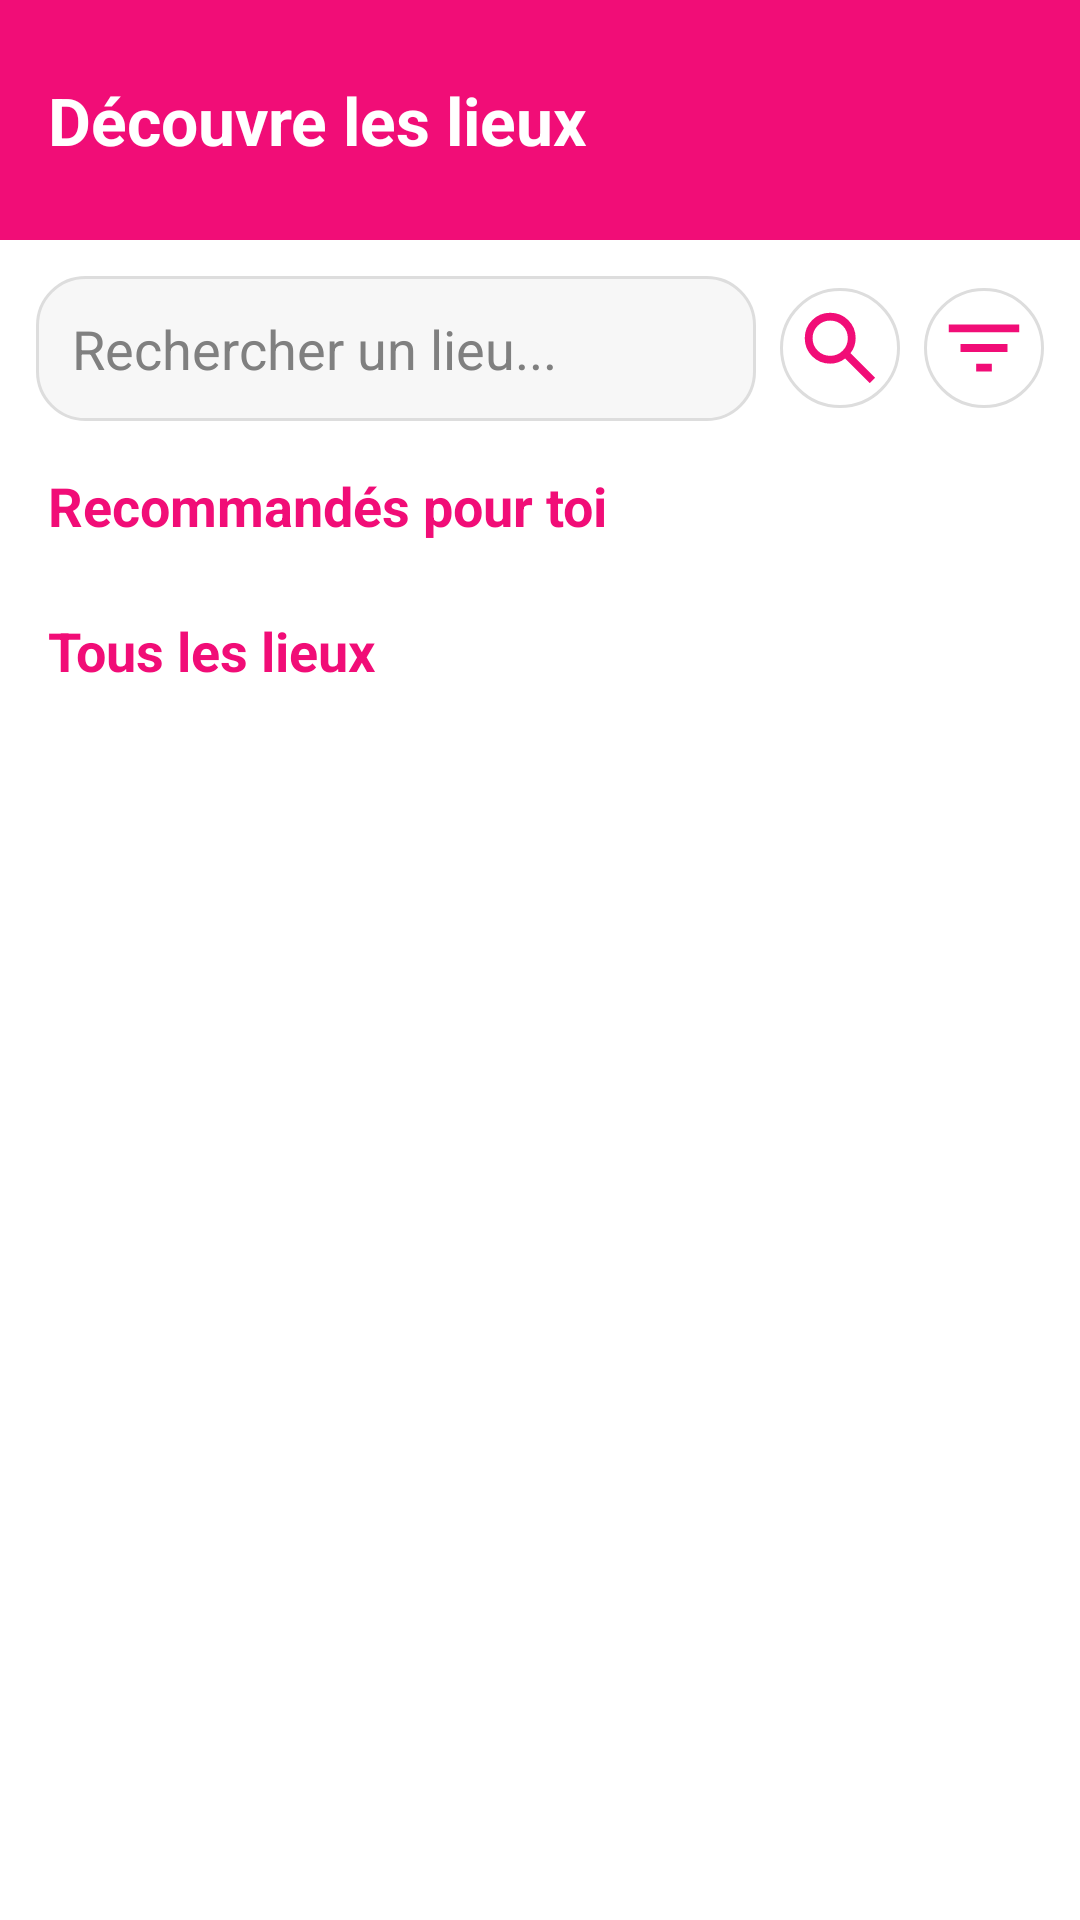

Screen size 1080px×1920px. Icon name, then its box in pixels as (x1, y1, x2, y2):
filter: (924, 288, 1044, 408)
search: (780, 288, 900, 408)
